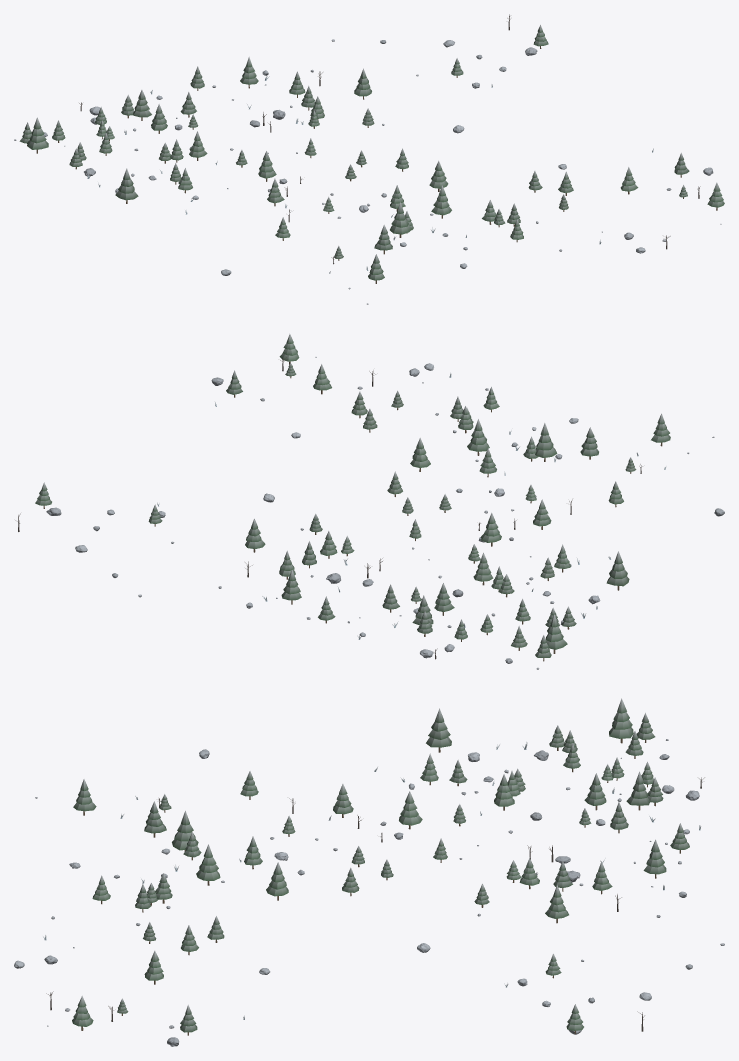
File: frost_land_scatter_c14_10.glb
3 renders of one model, top to bottom at view 1: azimuth 30°, elevation 25°; view 2: azimuth 150°, elevation 25°; view 3: azimuth 270°, elevation 25°, orthographic. The views are drawn at different scales.
Parts seen in each view (by area): view 1: frost_land_scatter_c14_10; view 2: frost_land_scatter_c14_10; view 3: frost_land_scatter_c14_10.
Boxes of the visible parts, x1,y1,x2,y2 form: frost_land_scatter_c14_10: [14, 14, 724, 304]; frost_land_scatter_c14_10: [15, 334, 724, 669]; frost_land_scatter_c14_10: [14, 698, 724, 1046].
Bounding box in the file's own units: 252 × 28.46 × 251.
